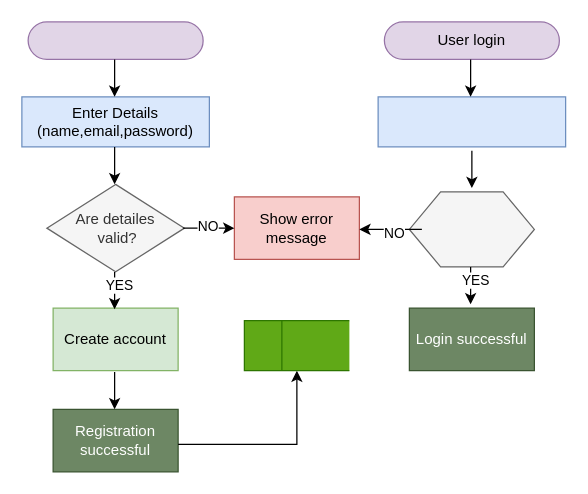
This 588x494 diagram has some shape labels left out. The shapes that lost their labels are listed below. From the top down, each one's centre as x and y in pixels, then its label:
the point at 115,40: User registration
the point at 471,121: Enter Details (email and password)
the point at 471,229: Check if User exist
the point at 296,345: User Data saved
